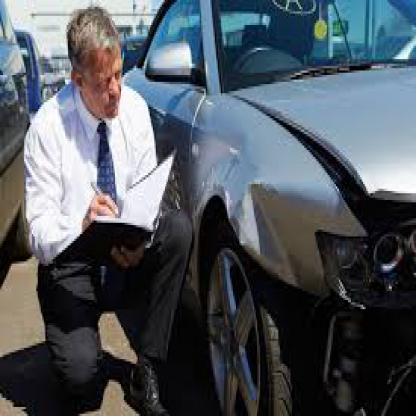dent: (235, 177, 284, 248)
